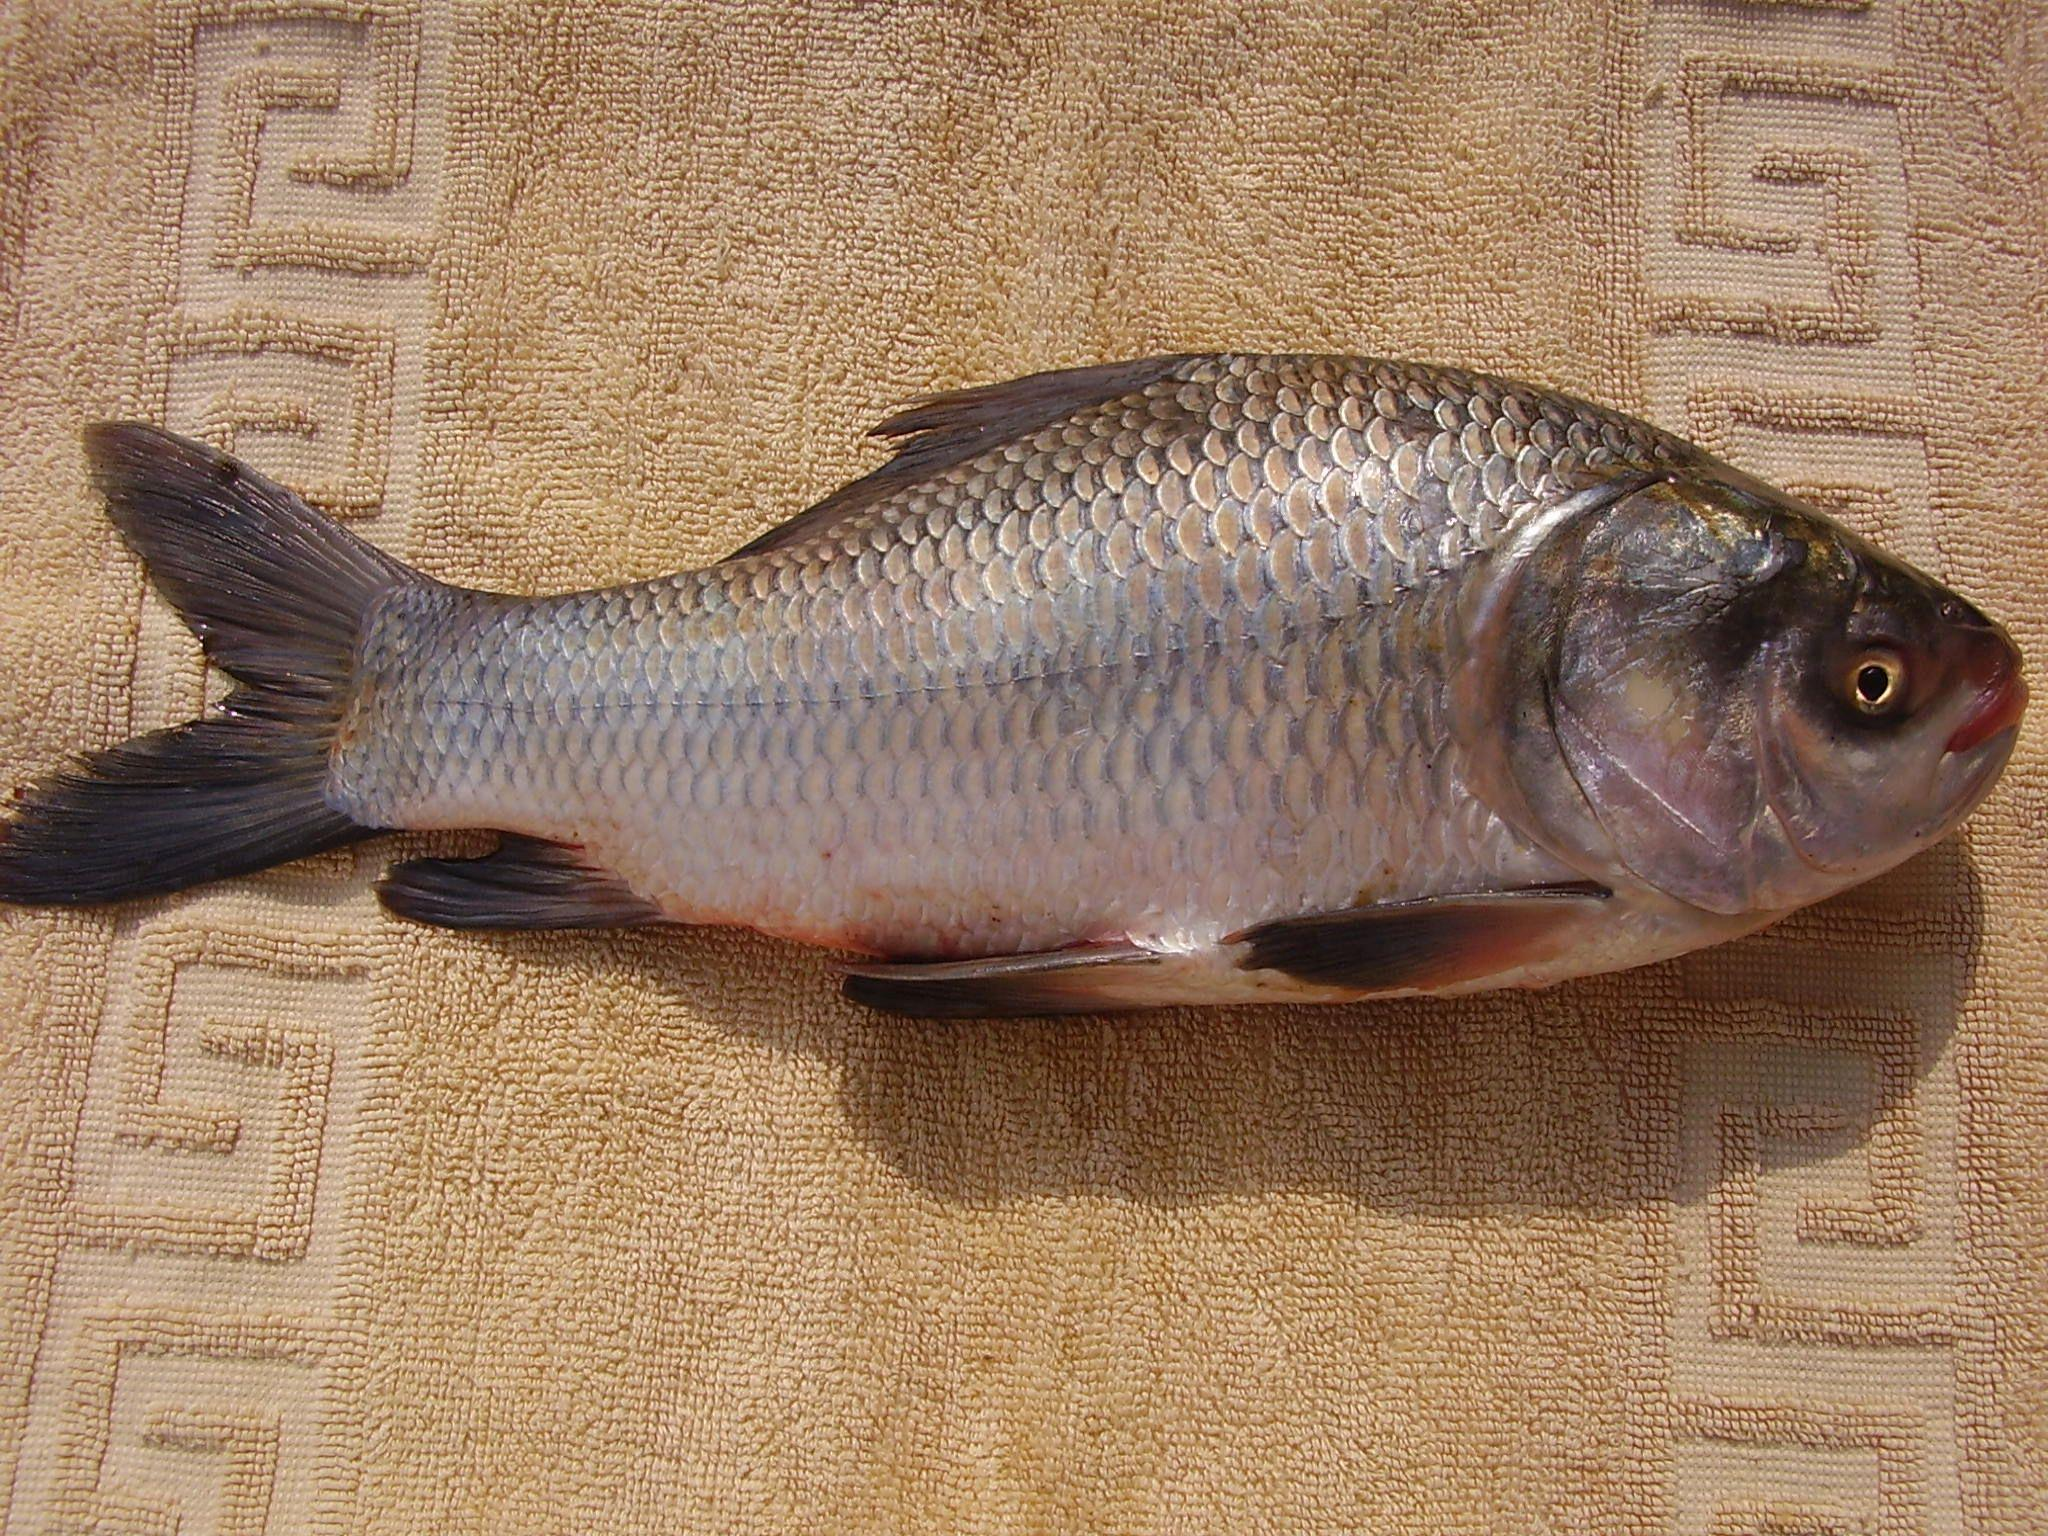Indian Carp: (5, 353, 2027, 1023)
